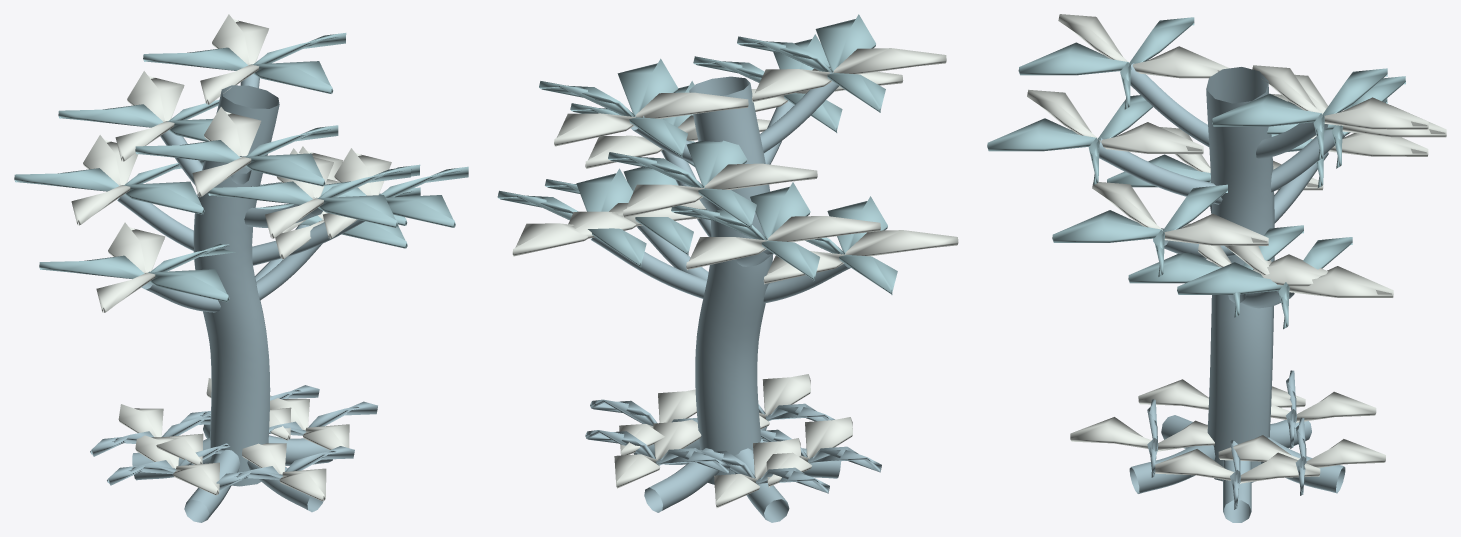
File: bio_canopy_tree_20_near.glb
3 renders of one model, left to right at view 1: azimuth 30°, elevation 25°; view 2: azimuth 150°, elevation 25°; view 3: azimuth 270°, elevation 25°, orthographic. The views are drawn at different scales.
Parts seen in each view (by area): view 1: Buttressed trunk, Broad canopy leaf.035, Broad canopy leaf.015, Broad canopy leaf.010, Broad canopy leaf.020, Broad canopy leaf.005, Broad canopy leaf.021, Broad canopy leaf.036, Broad canopy leaf.025, Broad canopy leaf.030, Broad canopy leaf.031, Broad canopy leaf.016 (+15 smaller); view 2: Buttressed trunk, Broad canopy leaf.035, Broad canopy leaf.015, Broad canopy leaf.005, Broad canopy leaf.030, Broad canopy leaf.016, Broad canopy leaf.031, Broad canopy leaf.036, Broad canopy leaf.006, Broad canopy leaf.040, Broad canopy leaf.021, Broad canopy leaf.020 (+17 smaller); view 3: Buttressed trunk, Broad canopy leaf.035, Broad canopy leaf.015, Broad canopy leaf.025, Broad canopy leaf.010, Broad canopy leaf.026, Broad canopy leaf.011, Broad canopy leaf.016, Broad canopy leaf.040, Broad canopy leaf.036, Broad canopy leaf, Low buttress leaf.001 (+14 smaller).
Boxes of the visible parts, x1,y1,x2,y2 form: Buttressed trunk: (117,74,364,522); Broad canopy leaf.035: (135,125,338,186); Broad canopy leaf.015: (143,33,346,93); Broad canopy leaf.010: (208,166,410,227); Broad canopy leaf.020: (39,243,235,302); Broad canopy leaf.005: (14,160,204,214); Broad canopy leaf.021: (96,222,165,312); Broad canopy leaf.036: (192,107,261,197); Broad canopy leaf.025: (321,166,468,227); Broad canopy leaf.030: (58,99,219,141); Broad canopy leaf.031: (115,71,184,161); Broad canopy leaf.016: (200,14,268,104); Buttressed trunk: (590,71,850,522); Broad canopy leaf.035: (737,14,885,112); Broad canopy leaf.015: (539,58,687,157); Broad canopy leaf.005: (671,182,819,281); Broad canopy leaf.030: (608,140,756,228); Broad canopy leaf.016: (554,92,748,146); Broad canopy leaf.031: (623,163,817,217); Broad canopy leaf.036: (752,48,946,101); Broad canopy leaf.006: (686,216,880,269); Broad canopy leaf.040: (497,168,646,267); Broad canopy leaf.021: (763,230,958,284); Broad canopy leaf.020: (805,196,897,294); Buttressed trunk: (1099,63,1345,522); Broad canopy leaf.035: (1018,17,1194,109); Broad canopy leaf.015: (1212,68,1387,160); Broad canopy leaf.025: (1052,184,1227,276); Broad canopy leaf.010: (987,95,1152,185); Broad canopy leaf.026: (1092,182,1268,245); Broad canopy leaf.011: (1027,89,1203,154); Broad canopy leaf.016: (1252,65,1428,129); Broad canopy leaf.040: (1177,237,1352,329); Broad canopy leaf.036: (1058,14,1229,78); Broad canopy leaf: (1128,225,1303,317); Low buttress leaf.001: (1155,449,1320,483).
Bounding box in the file's own units: 3.06 × 2.99 × 3.05.
